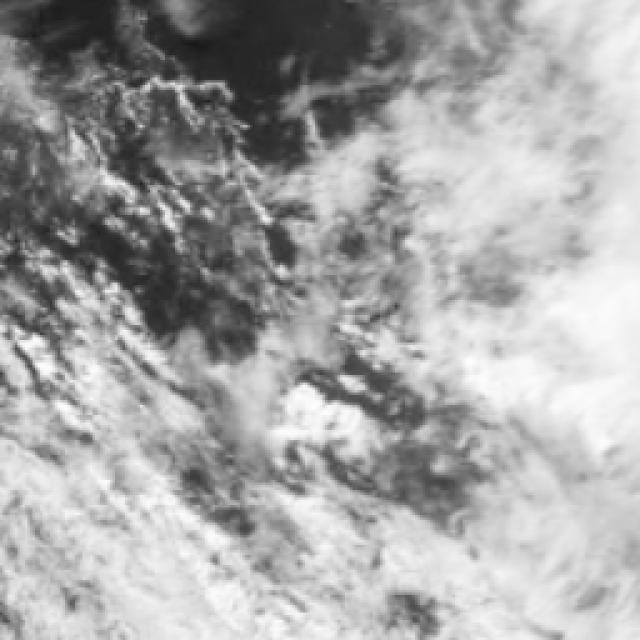CB: (457, 199, 640, 426), (0, 422, 167, 640), (479, 431, 640, 640), (477, 0, 640, 201), (172, 481, 356, 640)
